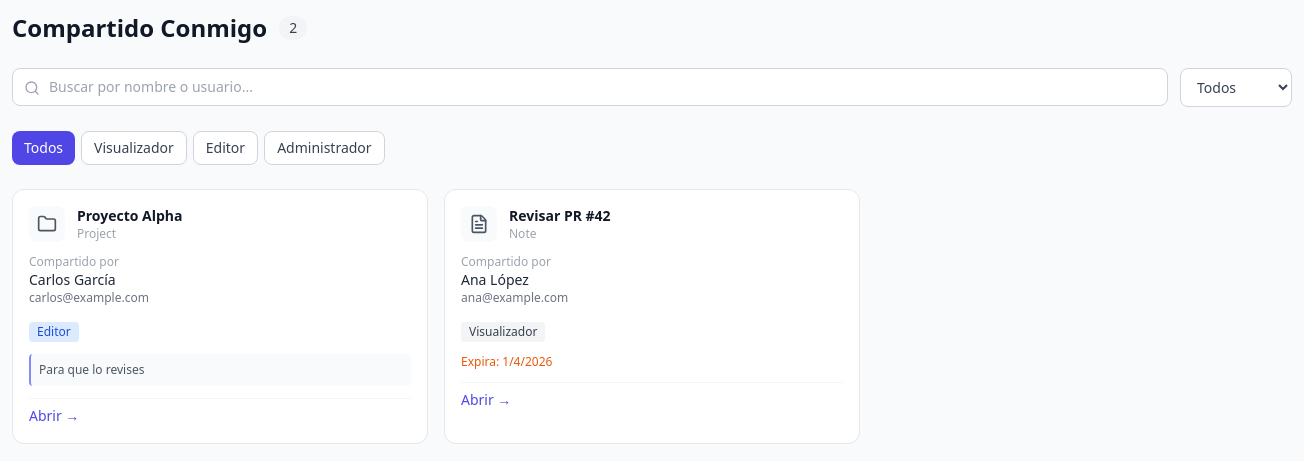
Scenario: SharedWithMePage › filters by resource_type select
Step 1. Select "Notas" in the dropdown named "tipo de recurso" → (1236, 88), box x1=1180 y1=68 x2=1292 y2=107
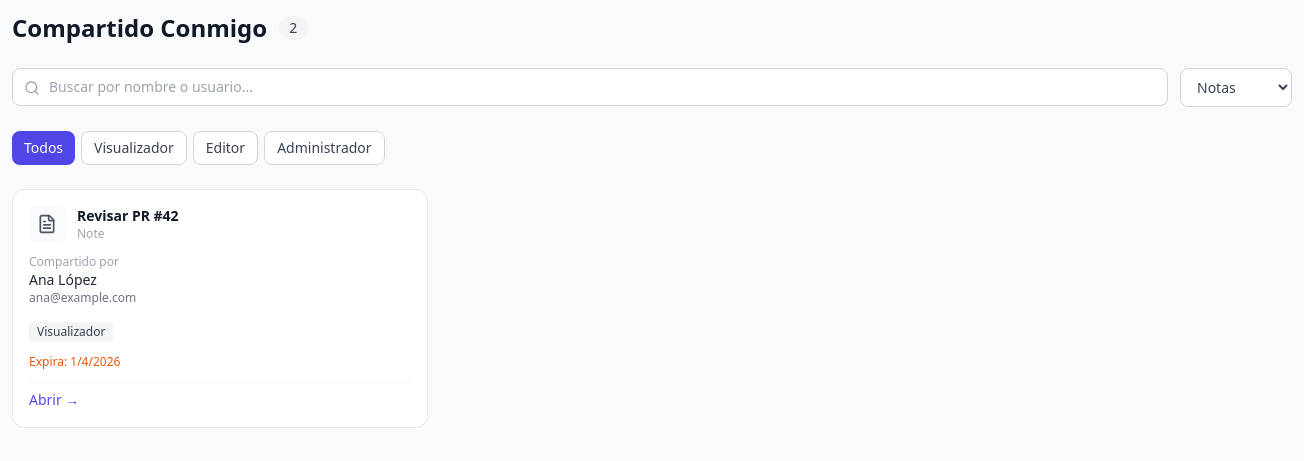
Check: the text "Revisar PR #42" is shown, box x1=77 y1=206 x2=179 y2=225
Check: the text "Proyecto Alpha" is gone
